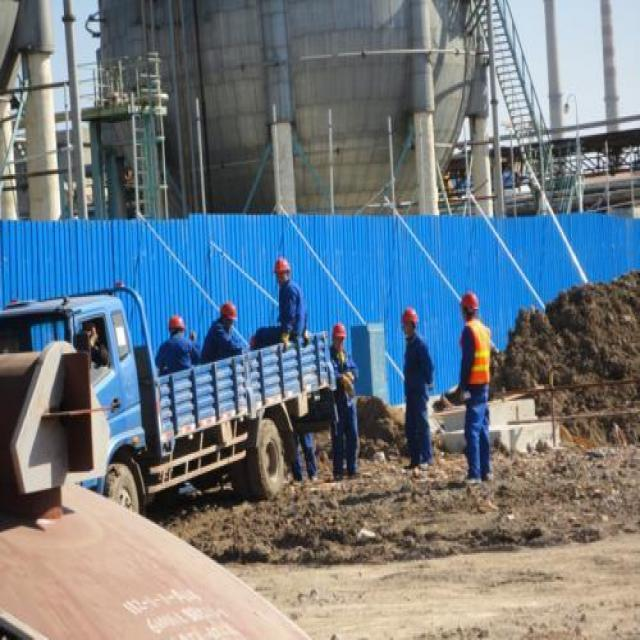hat: (399, 304, 418, 344), (216, 296, 238, 330), (330, 316, 348, 350), (274, 254, 293, 285), (459, 290, 478, 321), (168, 313, 184, 337)
